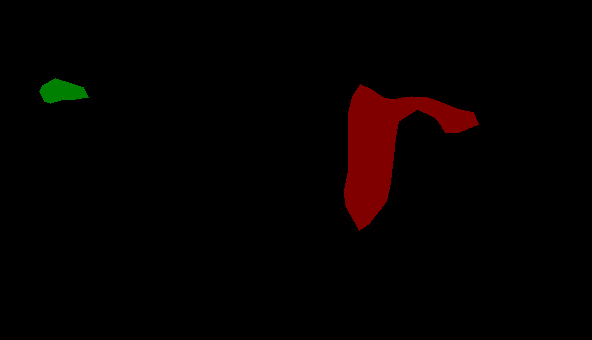fire: (344, 84, 478, 230), (39, 78, 88, 103)
